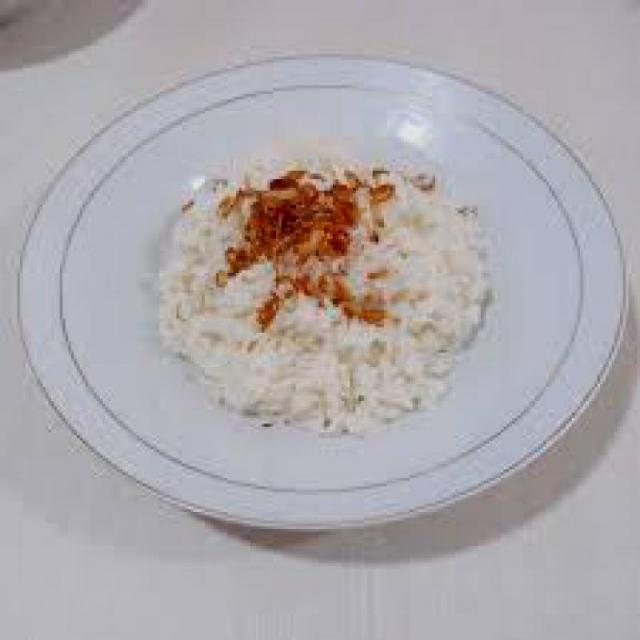Rice: (158, 150, 490, 440)
